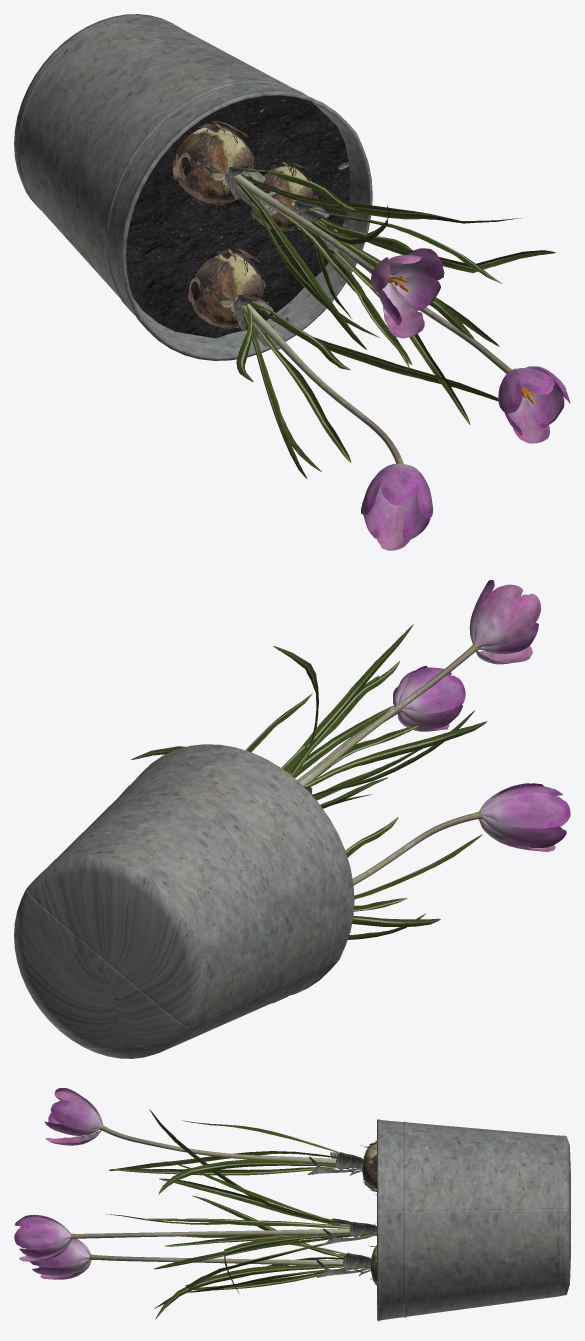
3 renders of one model, top to bottom at view 1: azimuth 30°, elevation 25°; view 2: azimuth 150°, elevation 25°; view 3: azimuth 270°, elevation 25°, orthographic. The views are drawn at different scales.
Parts seen in each view (by area): view 1: Bucket, Soil, FL43Leaf7, FL43Roots1, FL43Petal5, FL43Leaf2, FL43Petal7, FL43Branch1, FL43Petal6, FL43Leaf5, FL43Leaf4, FL43Leaf6 (+1 smaller); view 2: Bucket, FL43Leaf7, FL43Petal6, FL43Petal7, FL43Petal5, FL43Branch1, FL43Leaf2; view 3: Bucket, FL43Leaf7, FL43Branch1, FL43Leaf2, FL43Petal5, FL43Petal6, FL43Petal7, FL43Leaf4, FL43Leaf3, FL43Roots1.
Boxes of the visible parts, bbox=[...] form: Bucket: bbox=[14, 14, 372, 360]; Soil: bbox=[126, 95, 350, 338]; FL43Leaf7: bbox=[232, 174, 555, 478]; FL43Roots1: bbox=[177, 127, 313, 327]; FL43Petal5: bbox=[363, 248, 564, 540]; FL43Leaf2: bbox=[243, 169, 502, 462]; FL43Petal7: bbox=[371, 255, 549, 550]; FL43Branch1: bbox=[225, 169, 512, 463]; FL43Petal6: bbox=[361, 283, 570, 518]; FL43Leaf5: bbox=[175, 127, 315, 328]; FL43Leaf4: bbox=[224, 166, 329, 330]; FL43Leaf6: bbox=[172, 123, 318, 331]; Bucket: bbox=[14, 744, 354, 1058]; FL43Leaf7: bbox=[131, 624, 487, 939]; FL43Petal6: bbox=[393, 622, 570, 828]; FL43Petal7: bbox=[398, 584, 555, 851]; FL43Petal5: bbox=[394, 580, 566, 847]; FL43Branch1: bbox=[297, 642, 483, 885]; FL43Leaf2: bbox=[245, 661, 418, 911]; Bucket: bbox=[377, 1119, 570, 1321]; FL43Leaf7: bbox=[105, 1109, 376, 1319]; FL43Branch1: bbox=[68, 1125, 376, 1268]; FL43Leaf2: bbox=[143, 1120, 376, 1308]; FL43Petal5: bbox=[15, 1100, 101, 1275]; FL43Petal6: bbox=[14, 1113, 90, 1268]; FL43Petal7: bbox=[19, 1088, 103, 1279]; FL43Leaf4: bbox=[330, 1152, 376, 1270]; FL43Leaf3: bbox=[307, 1156, 376, 1277]; FL43Roots1: bbox=[362, 1142, 376, 1284].
Size of the model in its own units: 0.1169 by 0.0938 by 0.2301.
15 materials, 15 textured.
